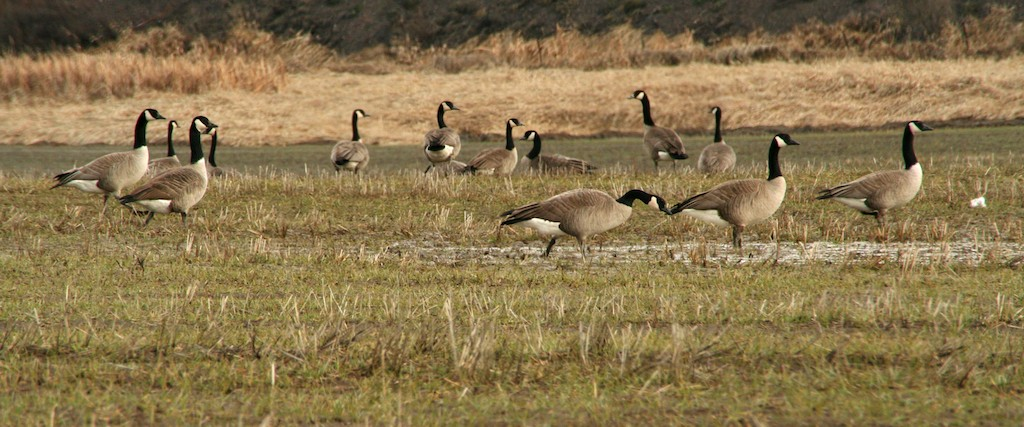goose: (667, 131, 800, 247), (812, 118, 936, 227), (494, 184, 669, 258), (50, 106, 169, 210), (118, 113, 221, 219), (627, 88, 688, 173), (521, 126, 599, 174), (466, 115, 526, 176), (698, 104, 739, 181), (325, 107, 371, 174), (420, 96, 463, 164), (151, 117, 179, 169)
